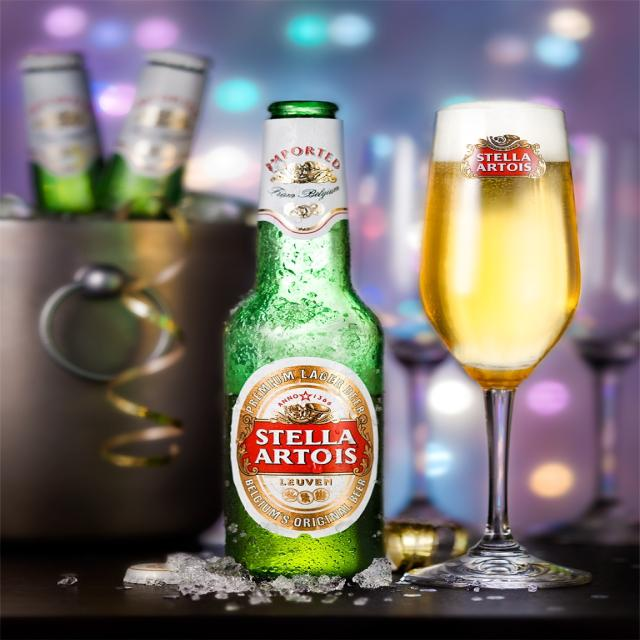stellaartois: (236, 367, 375, 532), (459, 132, 551, 182)
